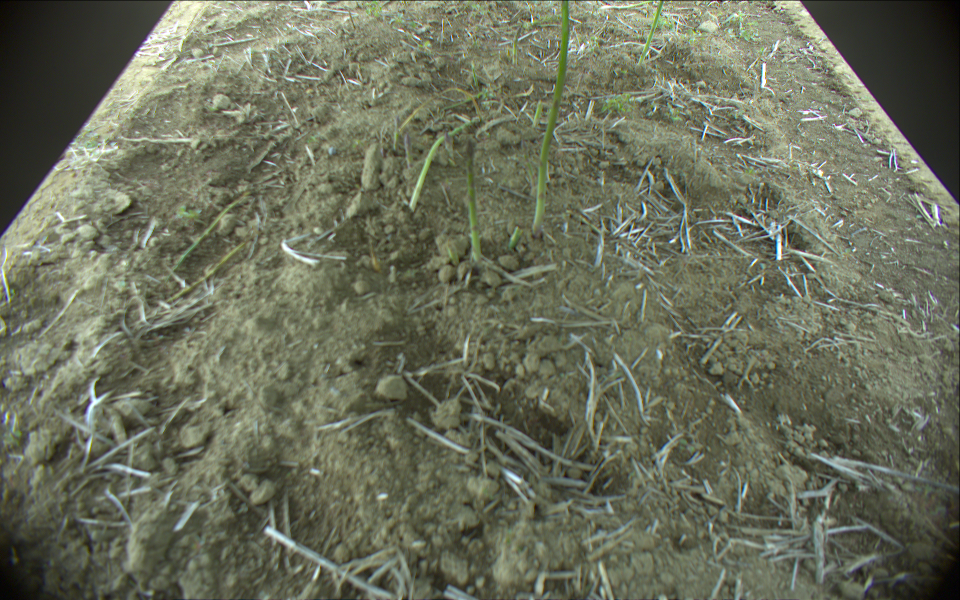aspa: (533, 1, 569, 234), (411, 115, 481, 208), (172, 195, 247, 268), (464, 143, 483, 261), (640, 1, 664, 64), (597, 1, 655, 10), (531, 98, 546, 127), (405, 135, 414, 165), (392, 112, 398, 151)
